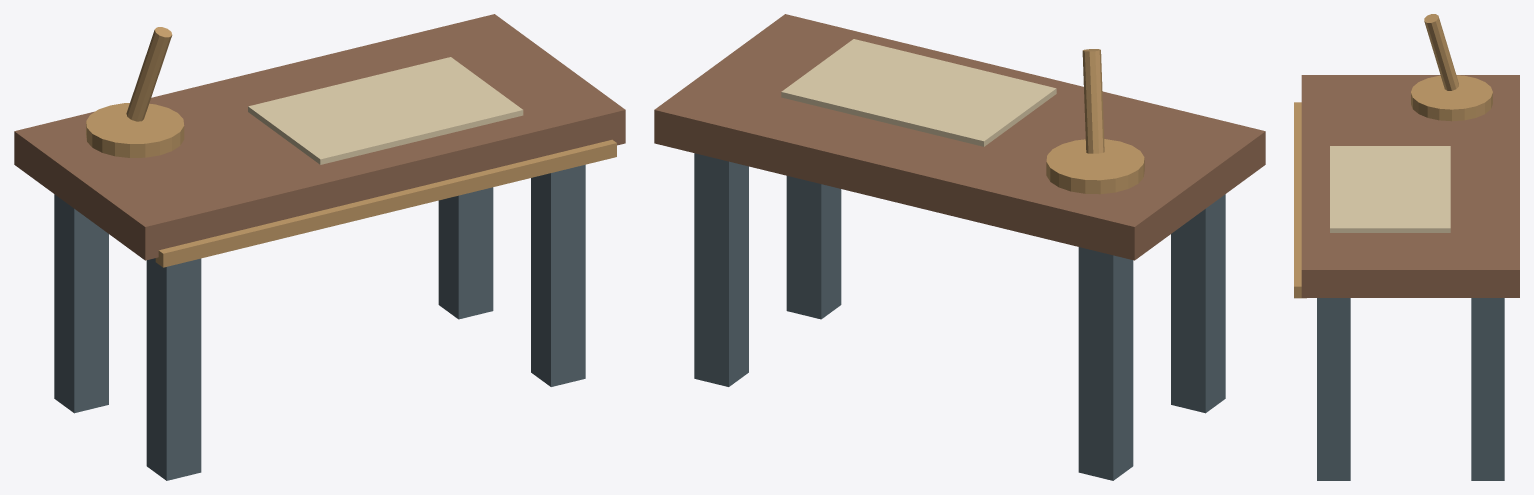
File: CaptainDesk.glb
The picture shows the model from 3 angles, left to right: view 1: azimuth 30°, elevation 25°; view 2: azimuth 150°, elevation 25°; view 3: azimuth 270°, elevation 25°; orthographic projection. The views are drawn at different scales.
Visible parts, largest first — view 1: CaptainDesk; view 2: CaptainDesk; view 3: CaptainDesk.
Part boxes in pixels (<box>): CaptainDesk: <box>14,14,625,480</box>; CaptainDesk: <box>654,14,1265,480</box>; CaptainDesk: <box>1294,14,1519,480</box>.
Bounding box in the file's own units: 1.8 × 1.38 × 0.88.
